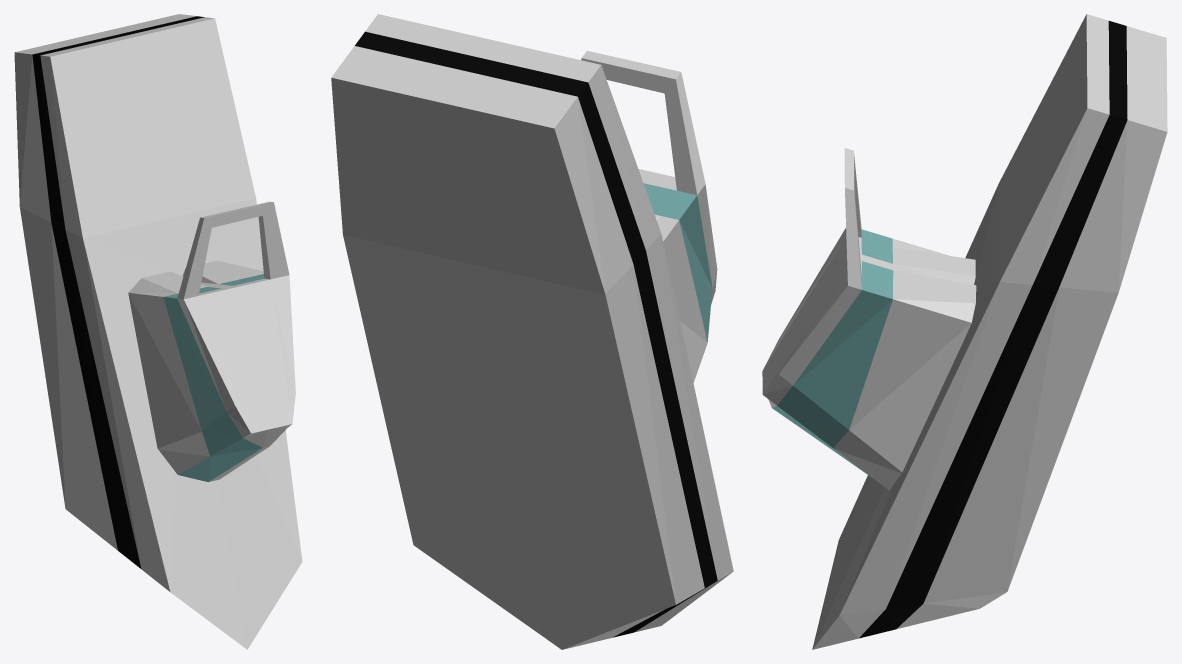
Rendered from boat.glb.
3 views of the same model, side by side, from view 1: azimuth 30°, elevation 25°; view 2: azimuth 150°, elevation 25°; view 3: azimuth 270°, elevation 25° (orthographic). The views are drawn at different scales.
Visible parts, largest first — view 1: Boat_Object; view 2: Boat_Object; view 3: Boat_Object.
Part boxes in pixels (<box>): Boat_Object: <box>14,14,302,649</box>; Boat_Object: <box>331,14,733,649</box>; Boat_Object: <box>762,14,1167,649</box>.
Size of the model in its own units: 0.1575 by 0.3985 by 0.2464.
